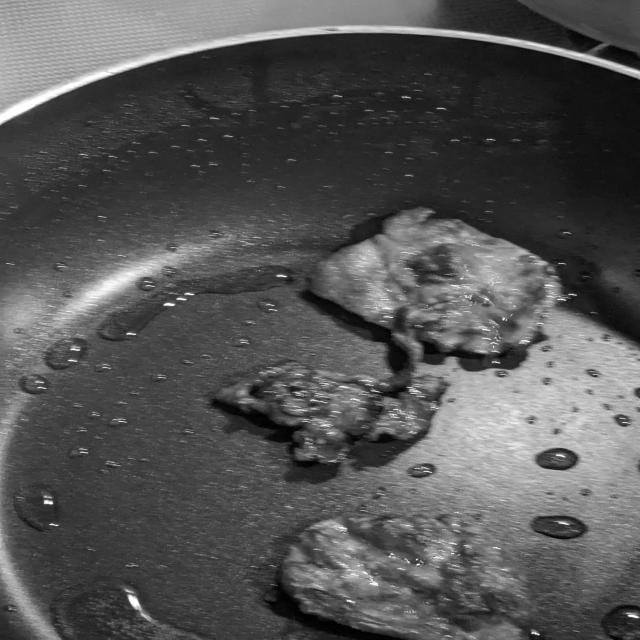overcooked pork: (202, 201, 570, 468), (262, 504, 551, 640)
